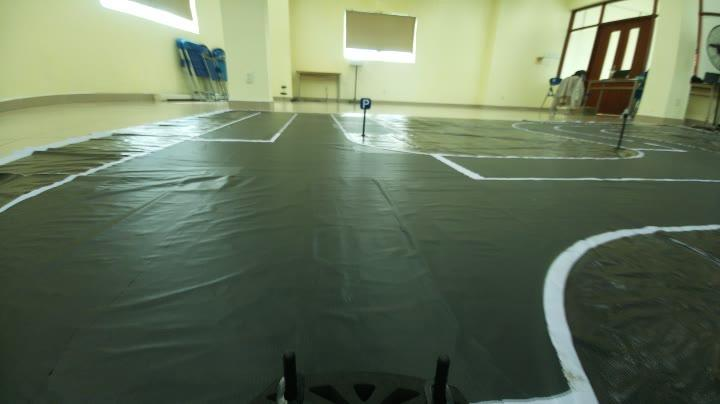parking: (354, 94, 377, 114)
